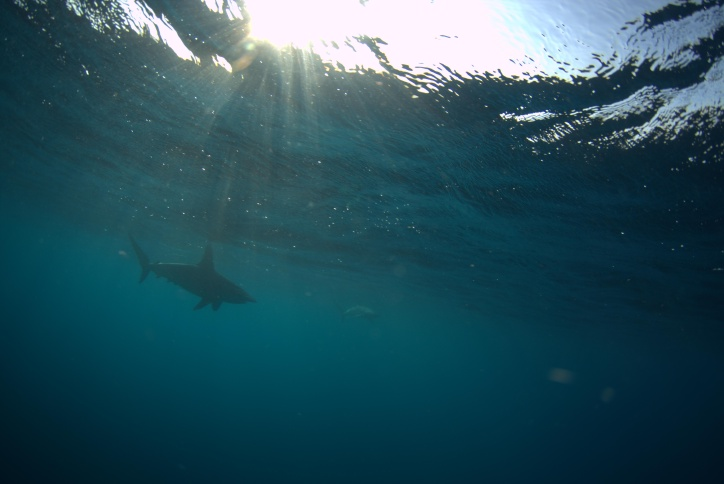Hammer: (112, 216, 272, 334)
